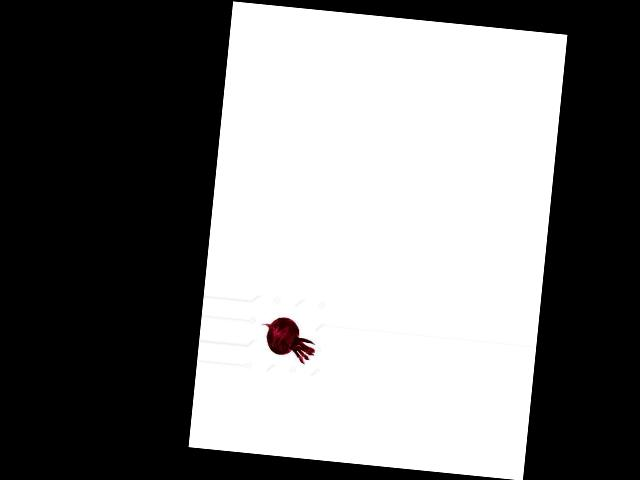beet: (257, 314, 317, 364)
